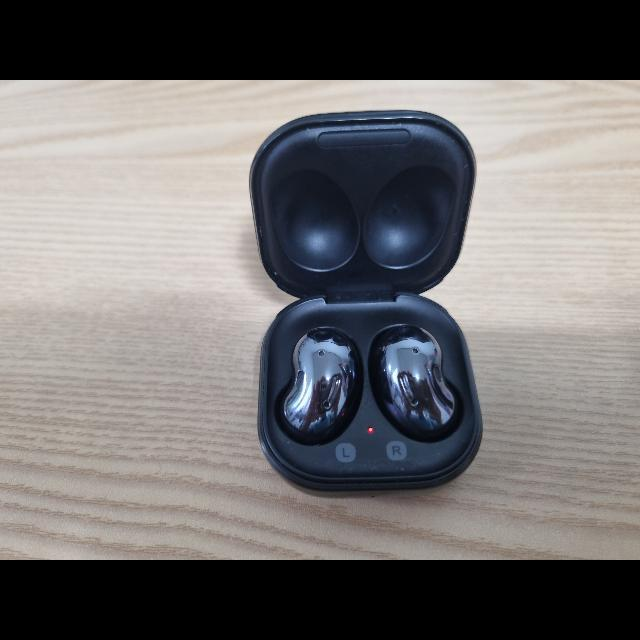buds_live: (248, 109, 486, 502)
